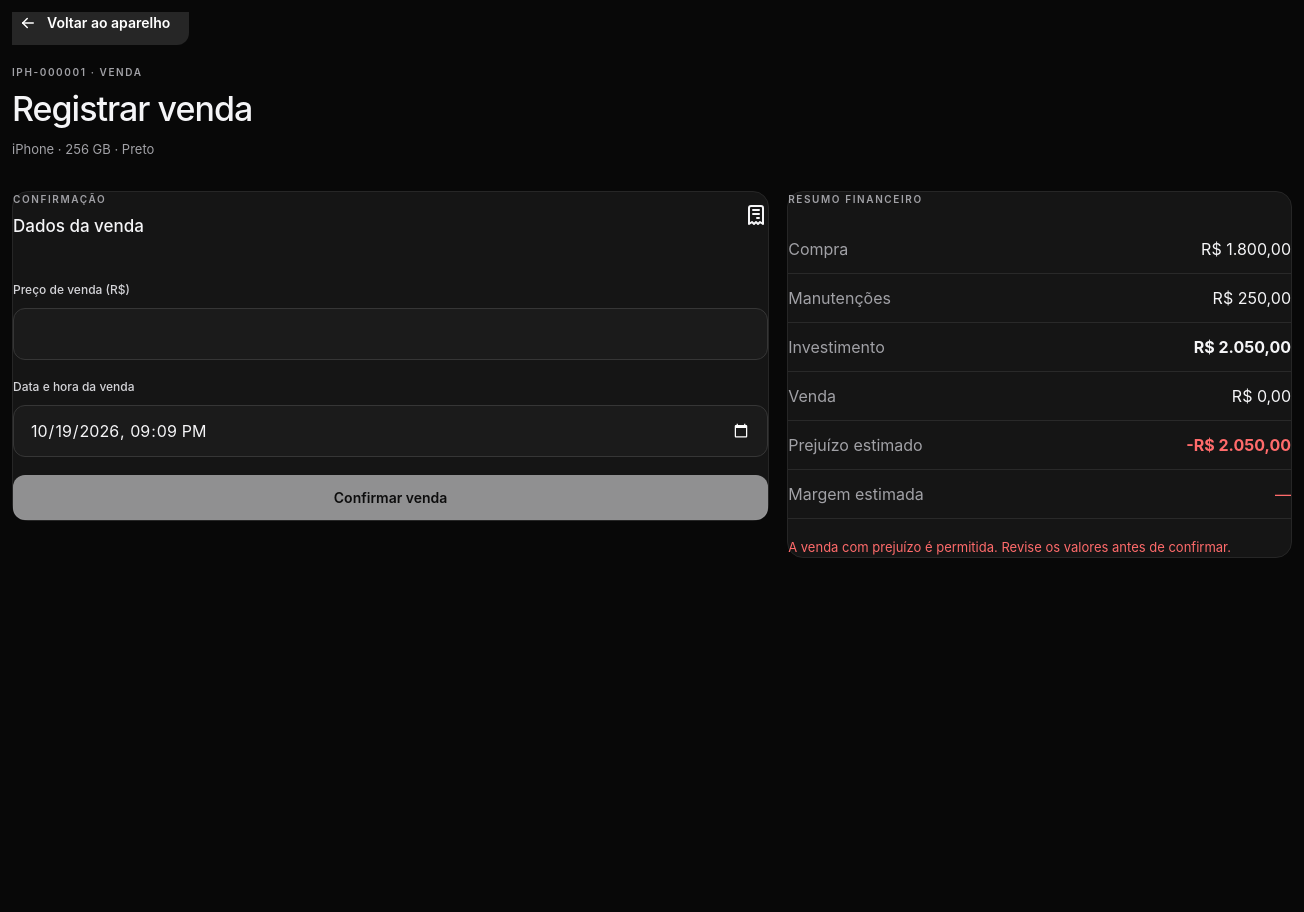
it: uses server values after registration and invalidates inventory and financial queries
This screenshot has width=1304, height=912.
Type "3200" into the number field labelled "Preço de venda (R$)" at [391, 334], box [13,308,768,360]
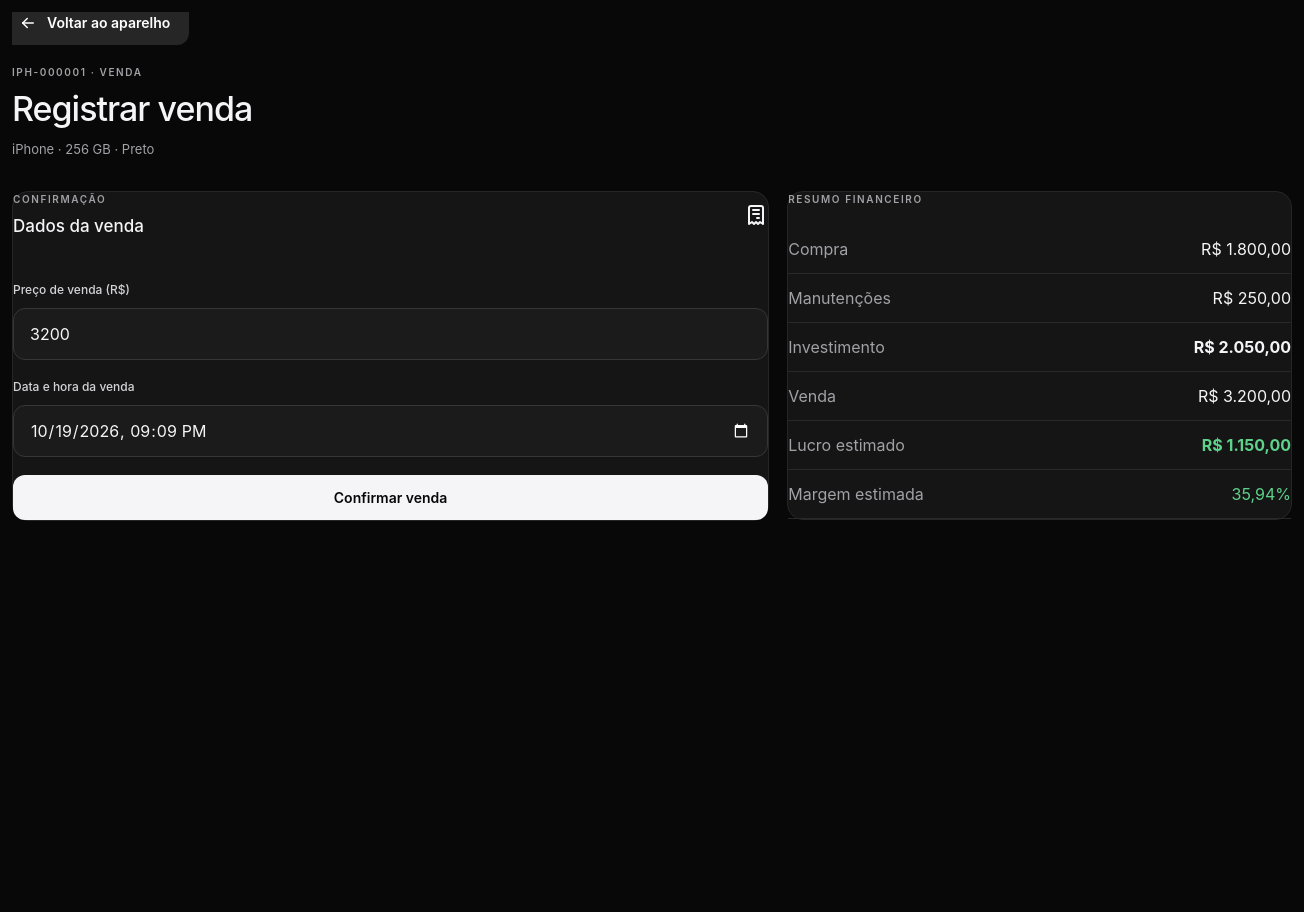
Replace the text in the field labelled "Data e hora da venda" with "2026-09-10T19:00" at [391, 431], box [13,405,768,457]
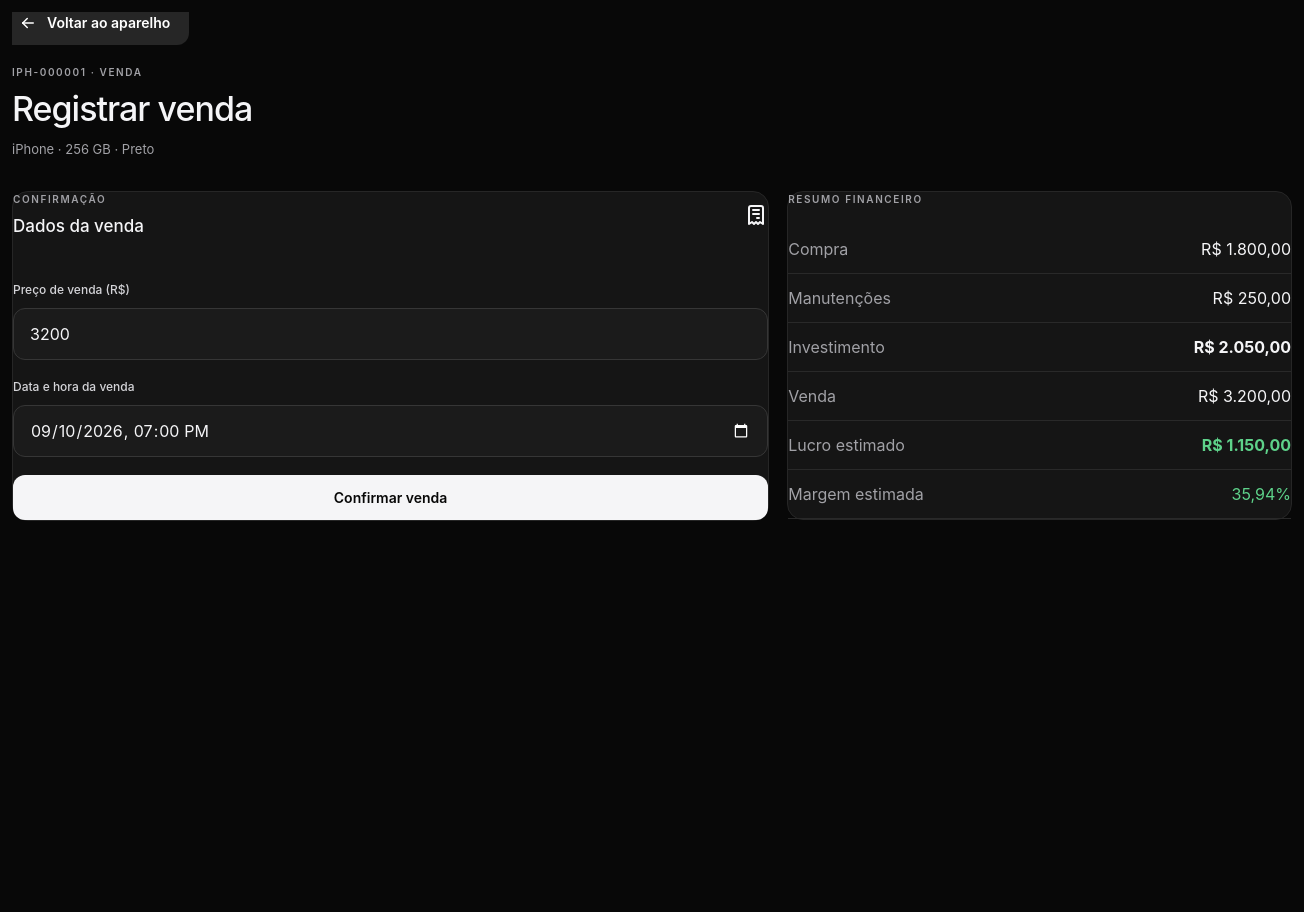
expect the text "R$ 1.150,00" is shown: met, box [1202,435,1291,455]
Click the button "Confirmar venda" at [391, 498], box [13,475,768,520]
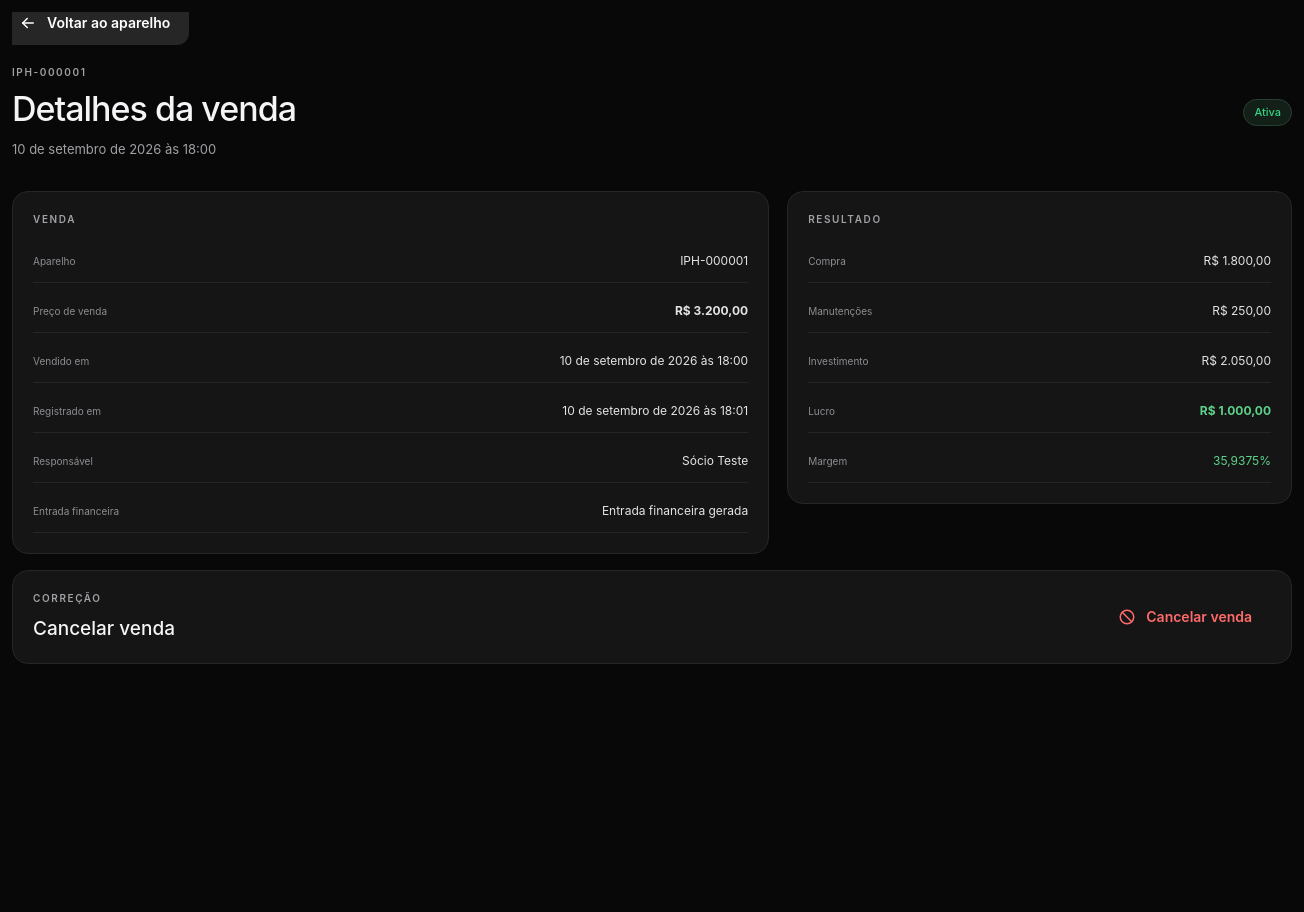
expect the heading "Detalhes da venda" is shown: met, box [12,87,296,131]
expect the text "R$ 1.000,00" is shown: met, box [1200,403,1271,418]
